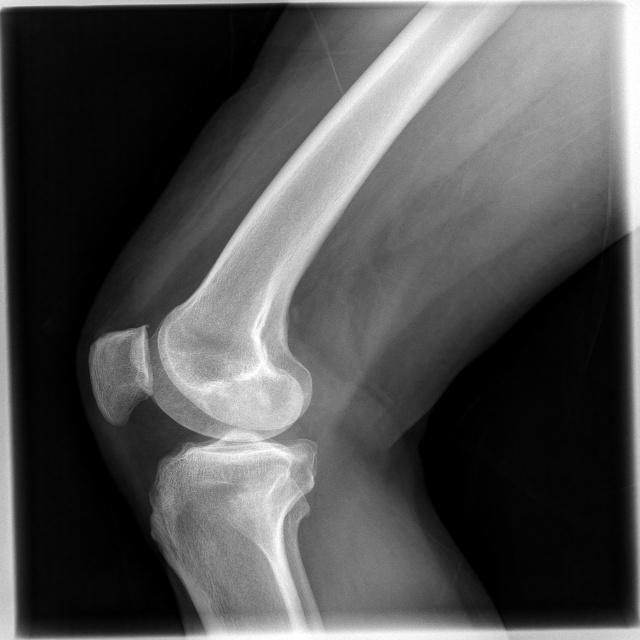Knee: (82, 314, 321, 533)
